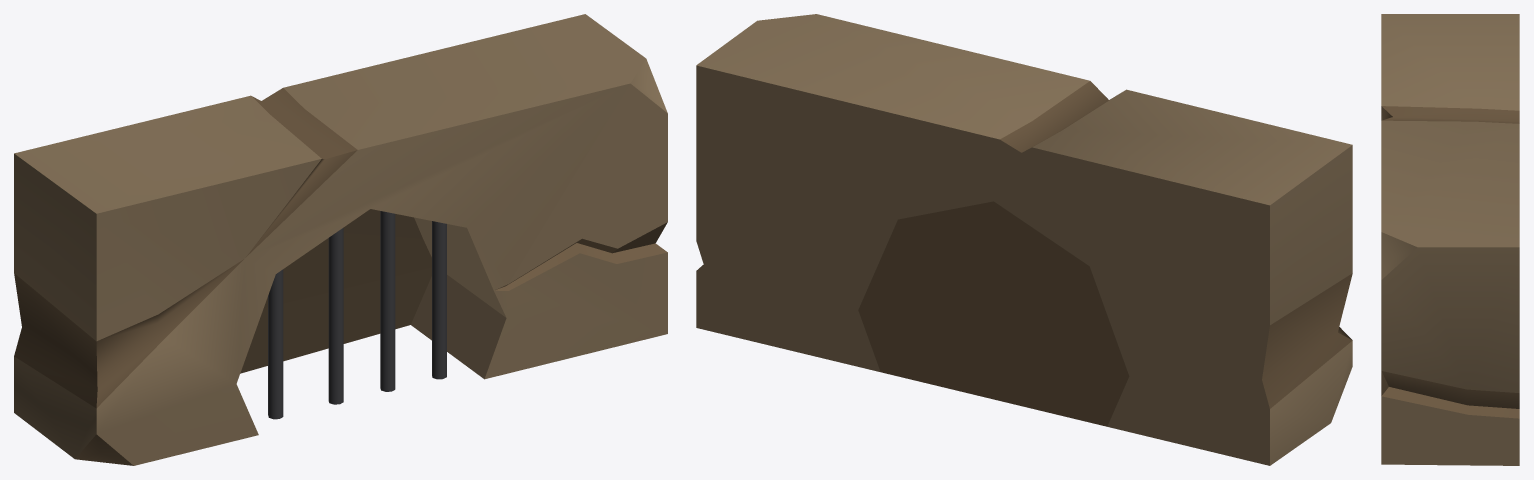
The model's file is Pared-Baja-Agua-1.FBX.
3 views of the same model, side by side, from view 1: azimuth 30°, elevation 25°; view 2: azimuth 150°, elevation 25°; view 3: azimuth 270°, elevation 25° (orthographic). The views are drawn at different scales.
Visible parts, largest first — view 1: Pared-Baja-Agua-1; view 2: Pared-Baja-Agua-1; view 3: Pared-Baja-Agua-1.
Part boxes in pixels (box(x1,y1,x2,y2)): Pared-Baja-Agua-1: box(14, 14, 667, 465); Pared-Baja-Agua-1: box(696, 14, 1352, 465); Pared-Baja-Agua-1: box(1381, 14, 1519, 465).
Size of the model in its own units: 200 by 87.4 by 50.
Materials: 1 (1 with a texture image).
